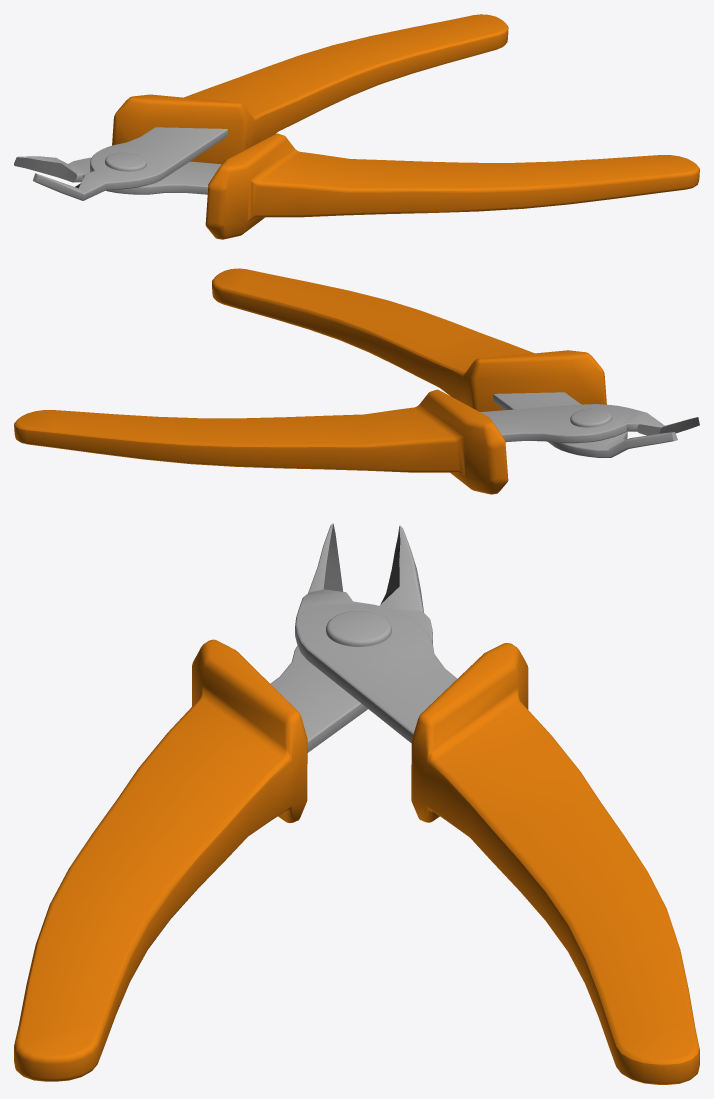
The model's file is Pliers.fbx.
3 views of the same model, one above another, from view 1: azimuth 30°, elevation 25°; view 2: azimuth 150°, elevation 25°; view 3: azimuth 270°, elevation 25° (orthographic). The views are drawn at different scales.
Parts seen in each view (by area): view 1: Plane, Plane.001, Cylinder; view 2: Plane.001, Plane, Cylinder; view 3: Plane.001, Plane, Cylinder.
Boxes of the visible parts, x1,y1,x2,y2 form: Plane: [14, 133, 699, 239]; Plane.001: [33, 14, 508, 200]; Cylinder: [105, 152, 146, 171]; Plane.001: [14, 389, 699, 494]; Plane: [212, 268, 677, 457]; Cylinder: [570, 408, 612, 427]; Plane.001: [295, 523, 699, 1084]; Plane: [14, 525, 432, 1081]; Cylinder: [326, 611, 391, 646].
Size of the model in its own units: 16.71 by 2.22 by 10.98.
